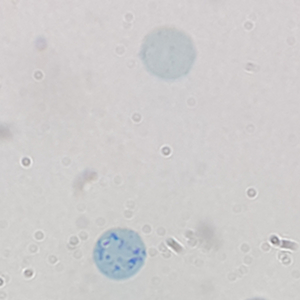aggregate reticulocyte: (91, 225, 148, 283)
punctate reticulocyte: (138, 25, 198, 81)
